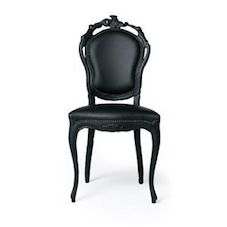chair: (51, 3, 186, 222)
